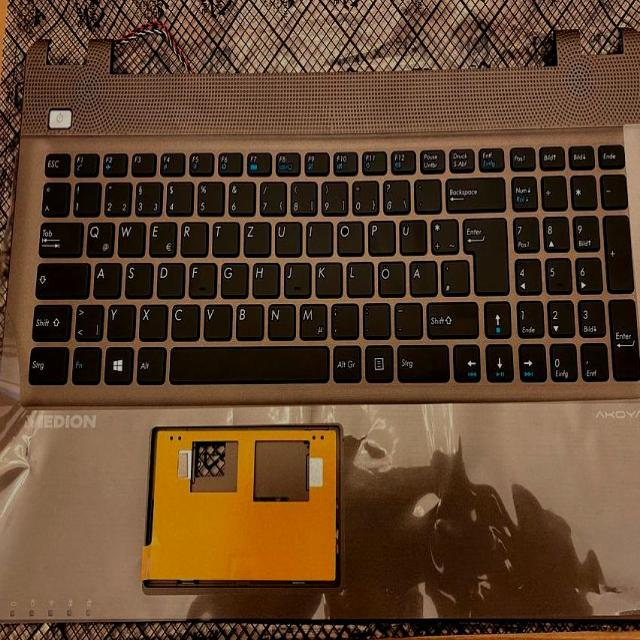0: (349, 177, 377, 212)
1: (72, 179, 99, 214)
2: (102, 179, 130, 213)
3: (133, 179, 160, 214)
4: (164, 178, 191, 213)
5: (195, 178, 222, 213)
6: (226, 178, 253, 213)
7: (258, 179, 284, 213)
8: (289, 178, 316, 213)
9: (320, 178, 347, 213)
a: (91, 259, 118, 295)
accent: (412, 175, 440, 210)
ae: (406, 257, 435, 293)
alt-left: (134, 343, 162, 381)
altgr-right: (330, 342, 360, 379)
b: (234, 300, 262, 337)
c: (169, 300, 197, 337)
caret: (39, 179, 67, 213)
comma: (329, 300, 357, 337)
d: (154, 259, 182, 295)
del: (443, 173, 503, 209)
e: (147, 218, 175, 254)
enter: (459, 213, 506, 292)
f: (187, 259, 214, 295)
g: (219, 259, 246, 295)
h: (250, 259, 278, 295)
hash: (439, 256, 467, 293)
i: (304, 218, 331, 253)
j: (282, 258, 308, 295)
k: (313, 258, 341, 294)
keyboard: (17, 127, 640, 400)
l: (345, 258, 372, 294)
less: (73, 300, 101, 339)
m: (297, 300, 325, 337)
minus: (391, 299, 420, 335)
n: (265, 300, 293, 336)
o: (335, 217, 362, 253)
oe: (376, 257, 403, 294)
p: (366, 217, 393, 252)
plus: (428, 215, 457, 252)
point: (361, 299, 389, 336)
q: (84, 218, 112, 254)
r: (178, 218, 206, 254)
s: (123, 259, 151, 295)
shift-left: (28, 299, 69, 338)
shift-lock: (32, 258, 87, 295)
shift-right: (424, 297, 476, 336)
space: (168, 341, 326, 380)
ss: (380, 176, 409, 211)
strg-left: (24, 342, 66, 381)
strg-right: (393, 340, 448, 379)
t: (211, 218, 238, 254)
tab: (35, 217, 80, 254)
u: (273, 218, 299, 254)
ue: (397, 217, 425, 252)
v: (201, 300, 229, 337)
w: (115, 217, 142, 253)
x: (137, 300, 165, 337)
y: (105, 301, 133, 337)
z: (242, 218, 268, 254)
